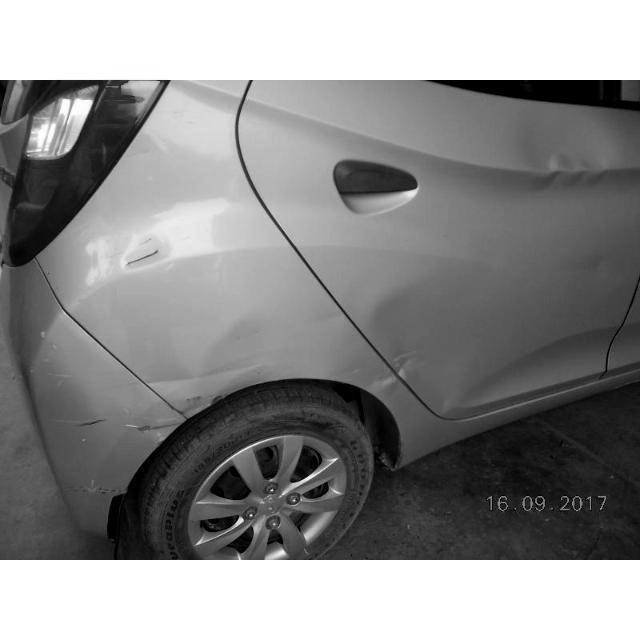doorouter-dent: (320, 81, 636, 403)
quaterpanel-dent: (95, 192, 321, 447)
rear-bumper-dent: (0, 284, 188, 544)
